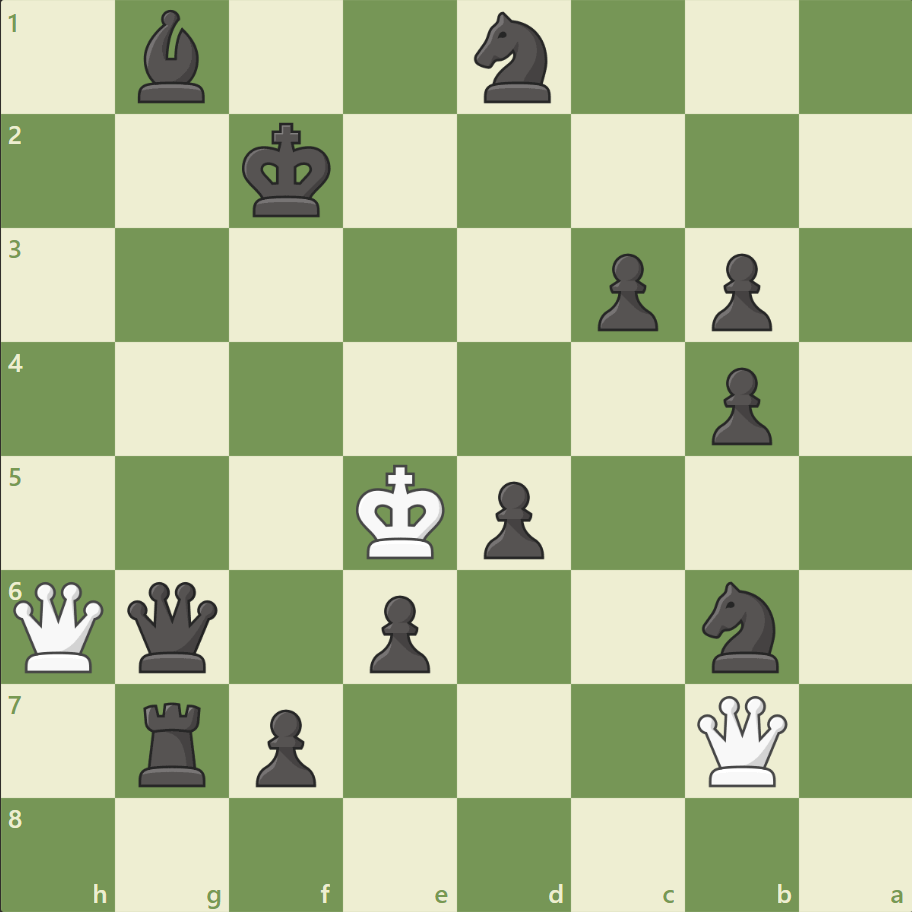K: (351, 458, 451, 566)
Q: (10, 576, 109, 676), (691, 690, 790, 789)
b: (131, 6, 215, 109)
k: (238, 117, 338, 225)
n: (465, 7, 562, 110), (692, 575, 789, 677)
p: (247, 700, 322, 791), (474, 473, 549, 564), (701, 359, 776, 450), (701, 246, 776, 337), (361, 586, 435, 677), (588, 246, 662, 337)
q: (124, 576, 223, 676)
r: (133, 693, 215, 790)
